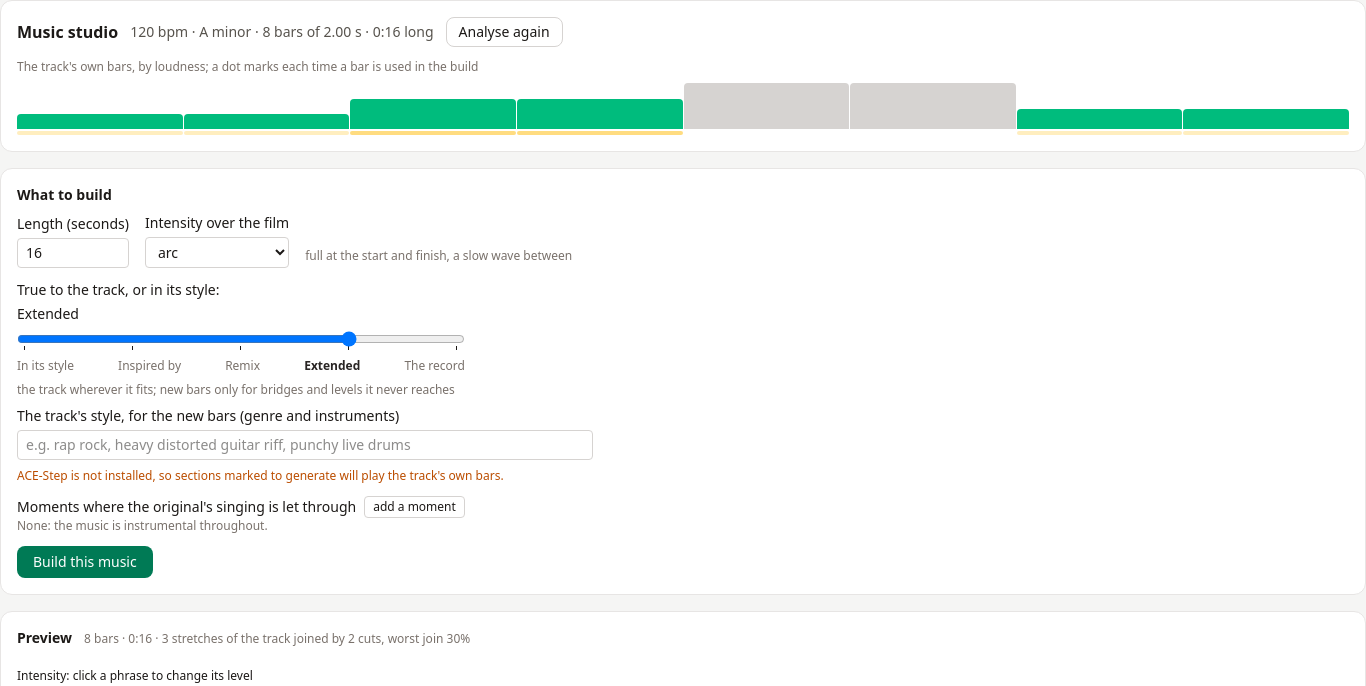
Test case: MusicStudio: true to the track, new bars and the checks › asks for the style and warns when there is no generator
The image size is (1366, 686).
expect the text "ACE-Step is not installed" is shown: met, box [17,467,504,484]
Step 1. Click the button "The record" → {"x": 435, "y": 366}, box [404,358,465,374]
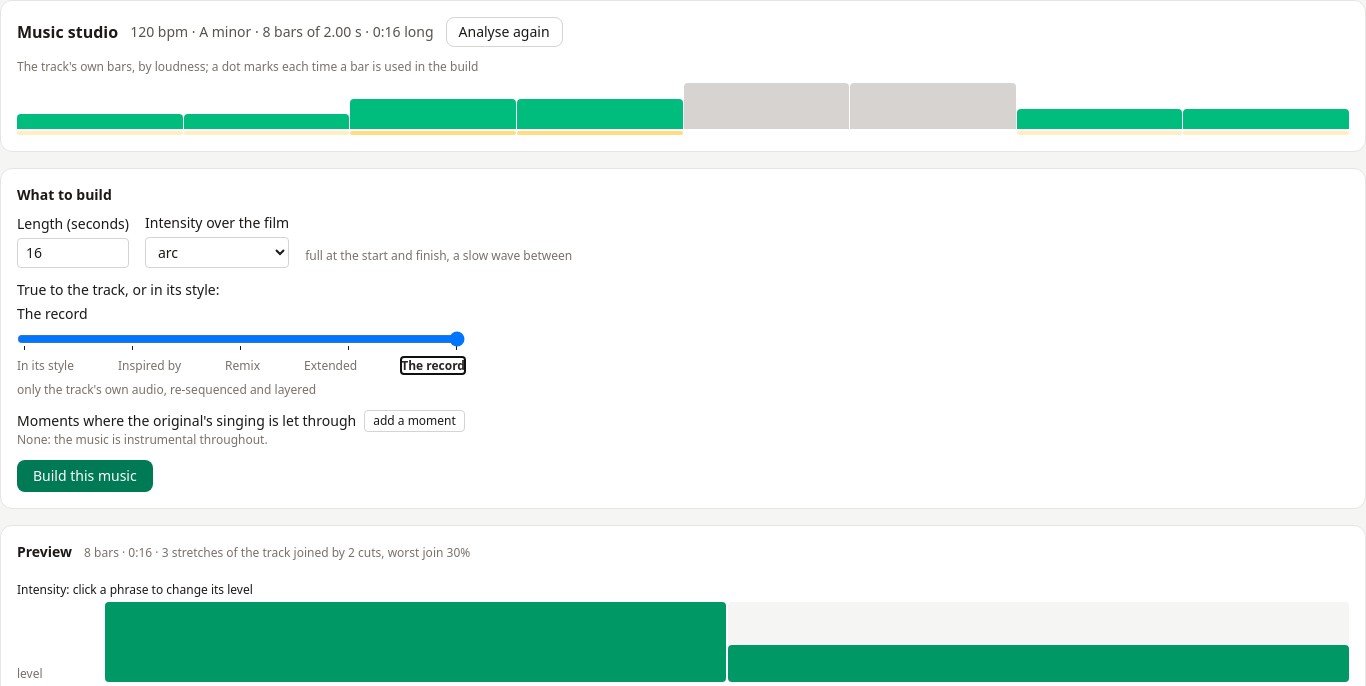
expect the text "ACE-Step is not installed" is gone: met
expect the label labelled "The track's style" is gone: met
